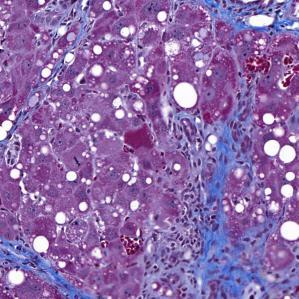fibrosis: (181, 123, 265, 296), (9, 240, 84, 297), (204, 3, 295, 46)
